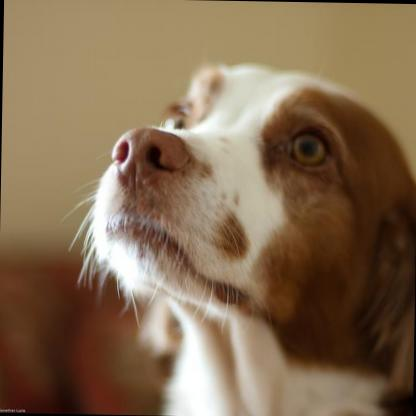Brittany_spaniel: (55, 55, 416, 416)
